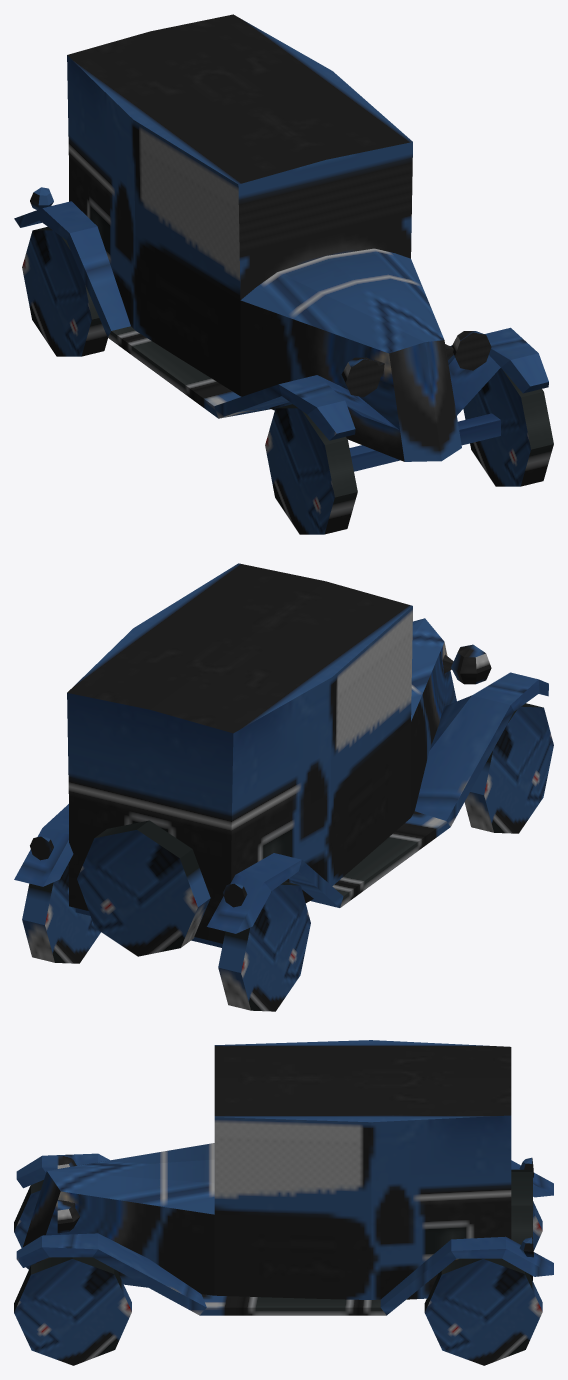
The model's file is Car7.glb.
3 renders of one model, top to bottom at view 1: azimuth 30°, elevation 25°; view 2: azimuth 150°, elevation 25°; view 3: azimuth 270°, elevation 25°, orthographic. The views are drawn at different scales.
Visible parts, largest first — view 1: body; view 2: body; view 3: body.
Boxes of the visible parts, x1,y1,x2,y2 form: body: [14, 14, 553, 534]; body: [14, 563, 553, 1011]; body: [14, 1040, 553, 1365].
Size of the model in its own units: 2.43 by 2.86 by 5.78.
Materials: 1 (1 with a texture image).
